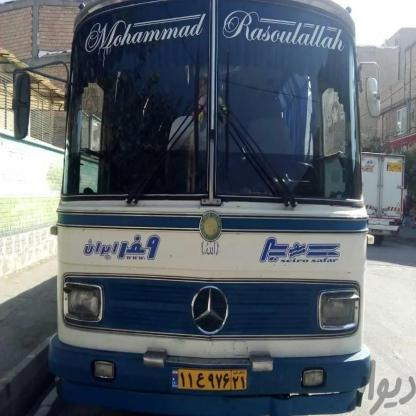Bus: (46, 0, 377, 416), (357, 146, 416, 252)
